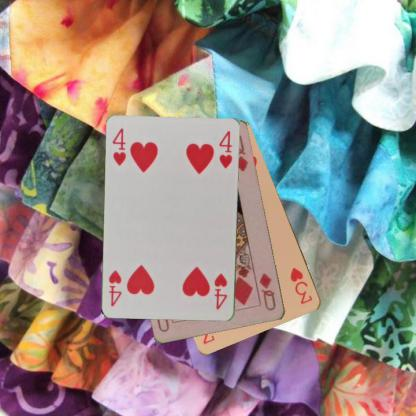3h: (288, 264, 314, 306)
4h: (211, 271, 229, 311), (110, 126, 127, 167)
Qd: (257, 270, 278, 312)
